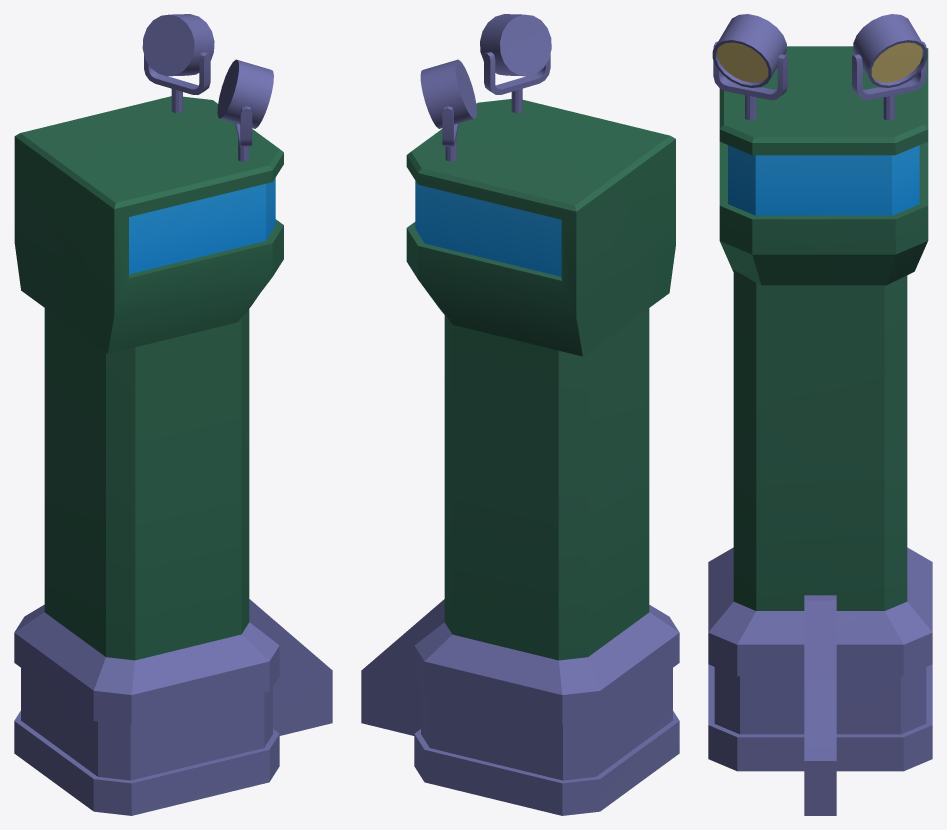
The model's file is military_watchtower.fbx.
3 views of the same model, side by side, from view 1: azimuth 30°, elevation 25°; view 2: azimuth 150°, elevation 25°; view 3: azimuth 270°, elevation 25° (orthographic). The views are drawn at different scales.
Visible parts, largest first — view 1: military_watchtower; view 2: military_watchtower; view 3: military_watchtower.
Boxes of the visible parts, x1,y1,x2,y2 form: military_watchtower: [14, 14, 332, 815]; military_watchtower: [361, 14, 679, 815]; military_watchtower: [708, 14, 932, 815].
Bounding box in the file's own units: 4.44 × 11.07 × 3.04.
